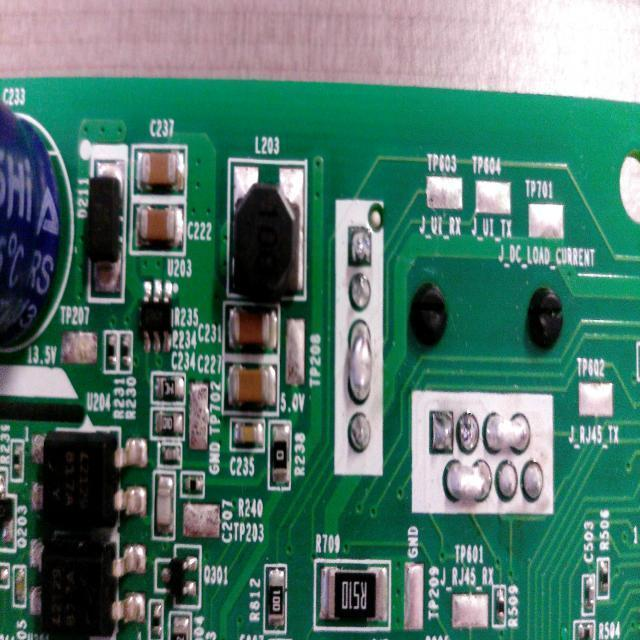Soldering shorted: (440, 455, 495, 507), (346, 315, 374, 411), (481, 406, 532, 458)
